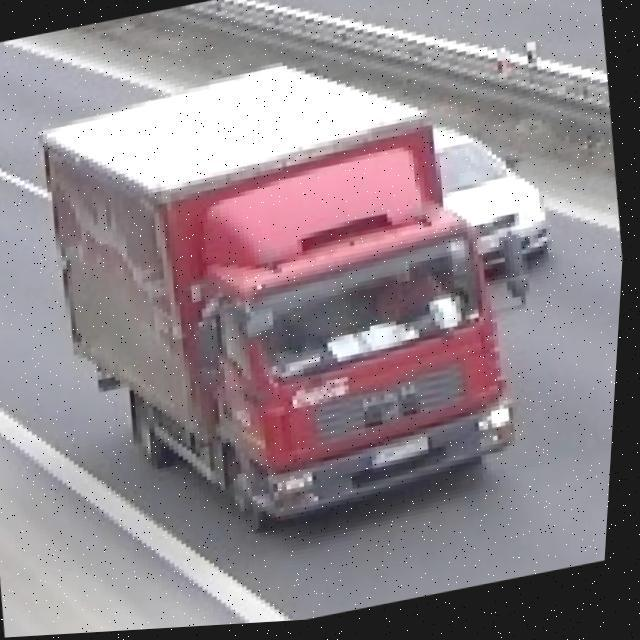truck: (19, 15, 575, 564)
